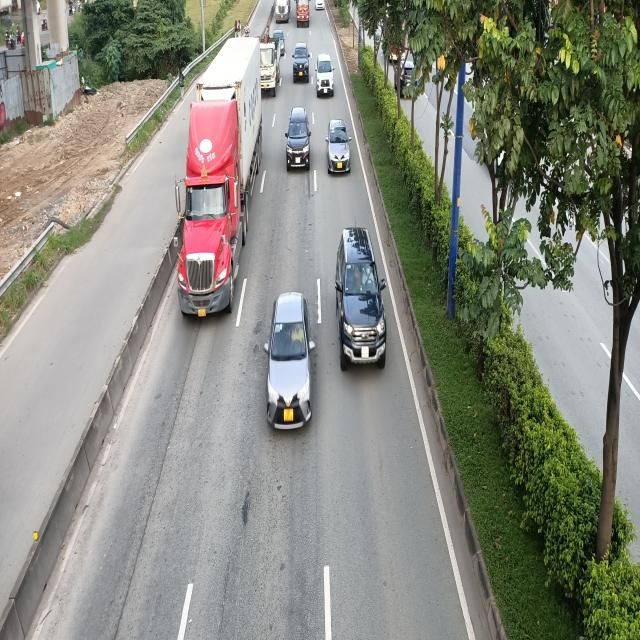car: (335, 225, 387, 370), (264, 290, 316, 430), (285, 105, 312, 172), (325, 118, 351, 175), (315, 52, 335, 98), (292, 42, 310, 82)
container: (174, 36, 260, 318), (274, 0, 292, 23)
truck: (256, 25, 280, 96), (296, 1, 309, 26)
